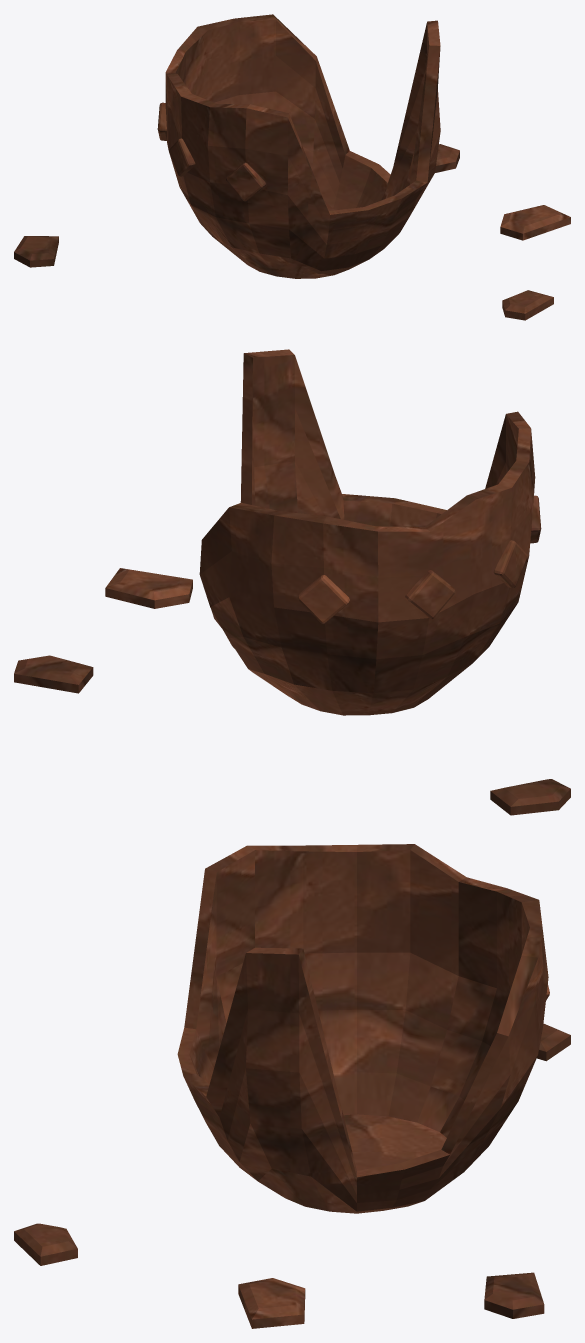
The model's file is junk_urn_broken_b.glb.
3 renders of one model, top to bottom at view 1: azimuth 30°, elevation 25°; view 2: azimuth 150°, elevation 25°; view 3: azimuth 270°, elevation 25°, orthographic. The views are drawn at different scales.
Parts seen in each view (by area): view 1: model; view 2: model; view 3: model.
Part boxes in pixels (left/top/right/bottom): model: left=14, top=14, right=570, bottom=320; model: left=14, top=349, right=570, bottom=815; model: left=14, top=844, right=570, bottom=1328.
Size of the model in its own units: 0.6208 by 0.2865 by 0.486.
3 materials, 3 textured.
